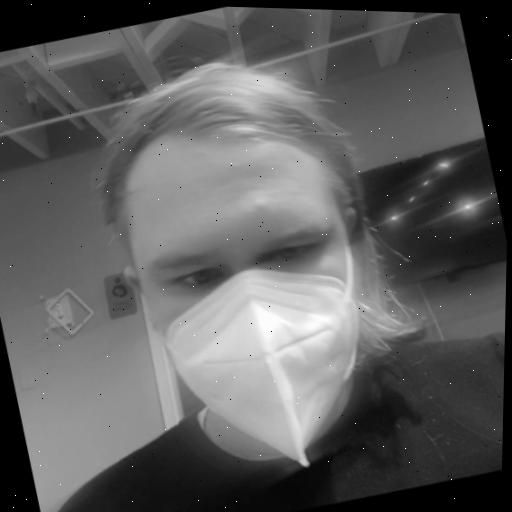mask: (57, 22, 457, 501)
